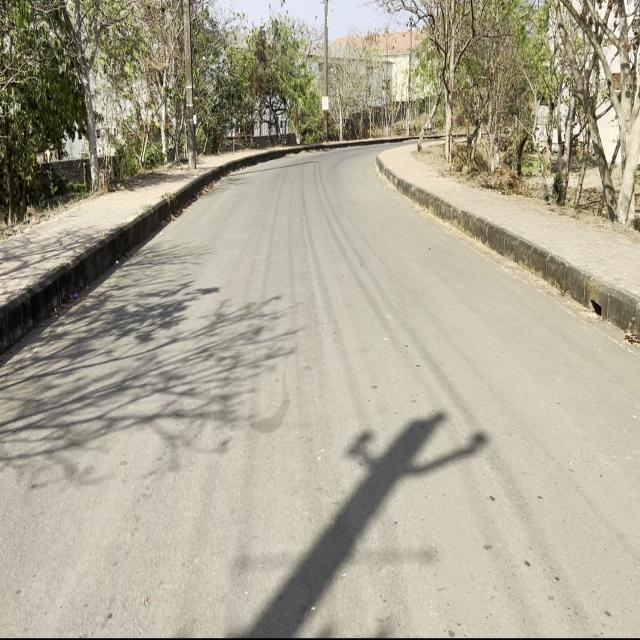Road: (3, 152, 636, 633)
